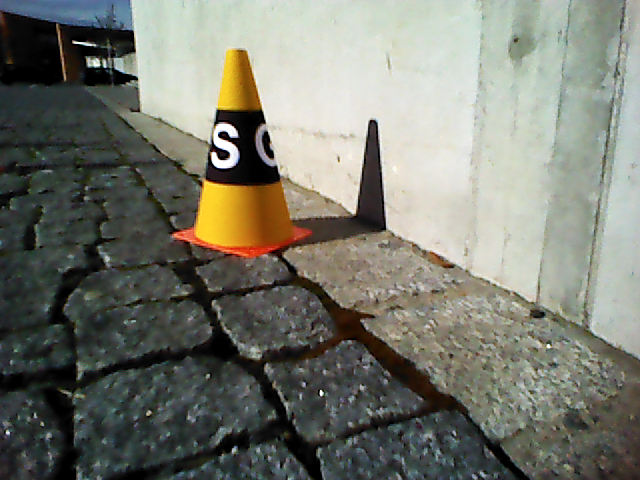yellowcone: (201, 50, 288, 243)
